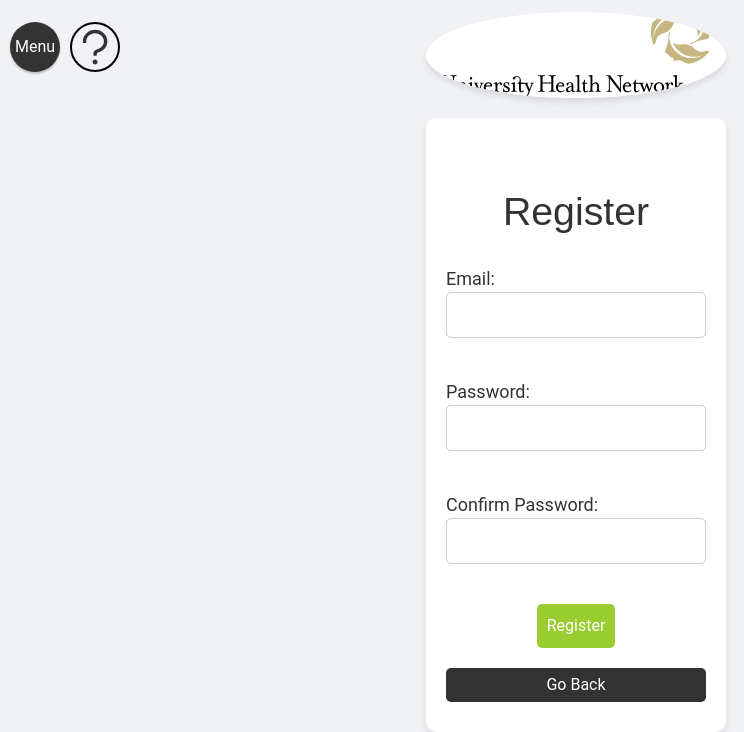
Test: displays error message if passwords do not match
In the field labelled "Email:": (576, 315) [446, 292, 706, 338], type "valid_email@example.com"
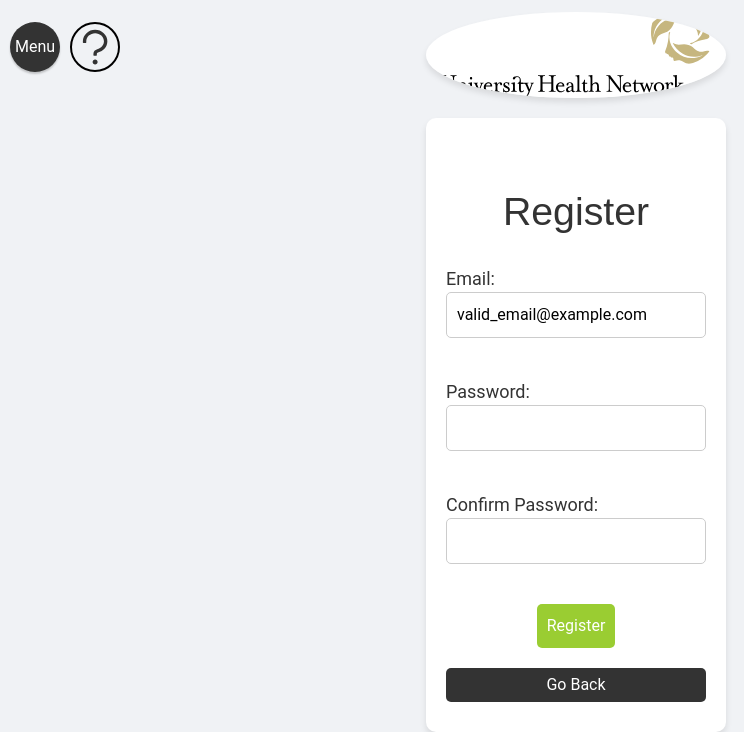
In the password field labelled "Password:": (576, 428) [446, 405, 706, 451], type "password123"
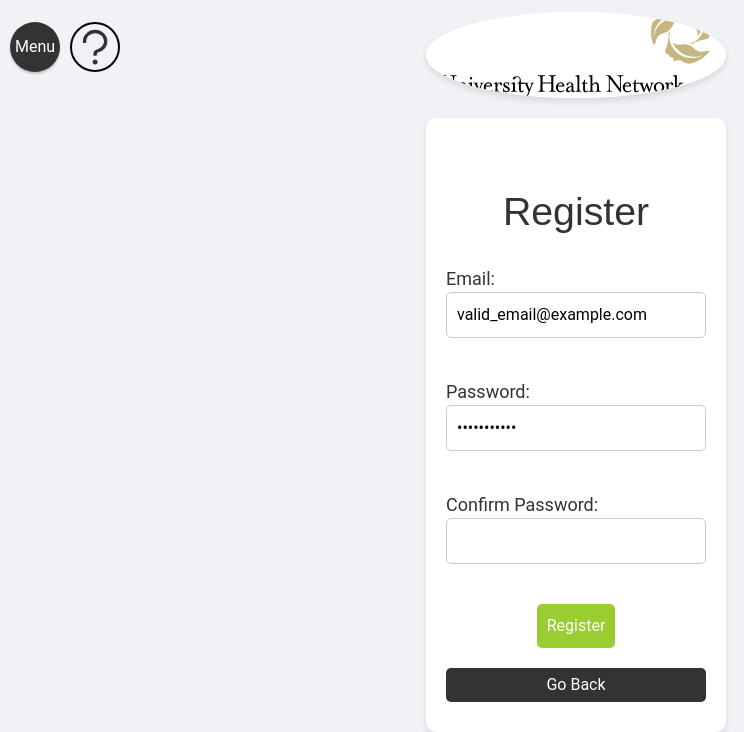
In the password field labelled "Confirm Password:": (576, 541) [446, 518, 706, 564], type "different_password"
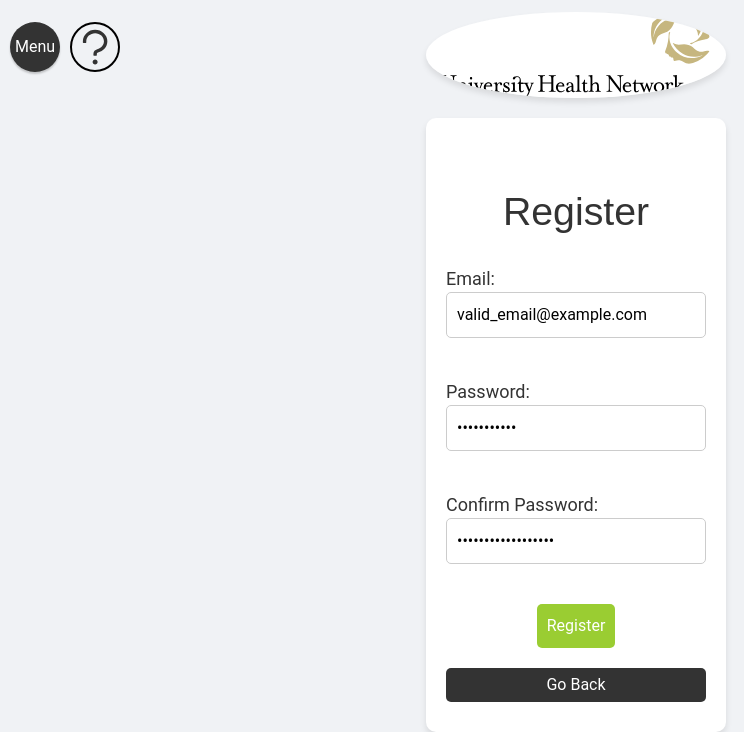
Click the button "Register": (576, 626) [537, 604, 615, 648]
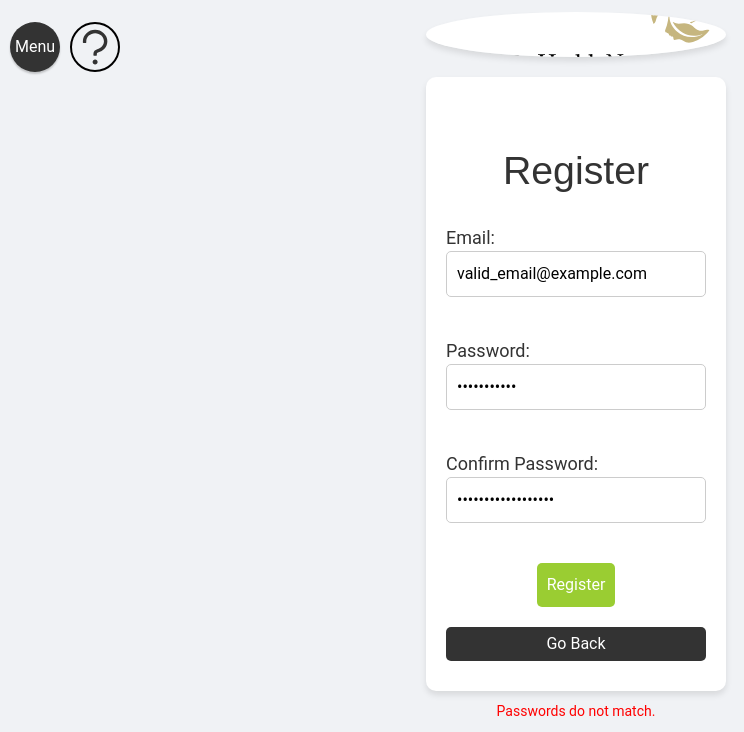
Now the text "Passwords do not match." is shown, box [497, 701, 656, 722]
